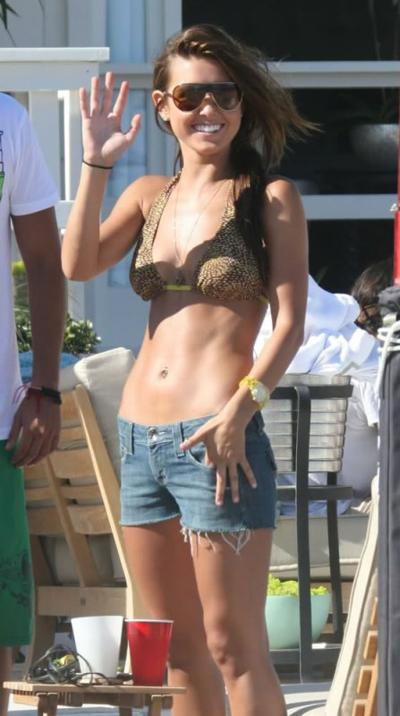person: (61, 27, 310, 716)
